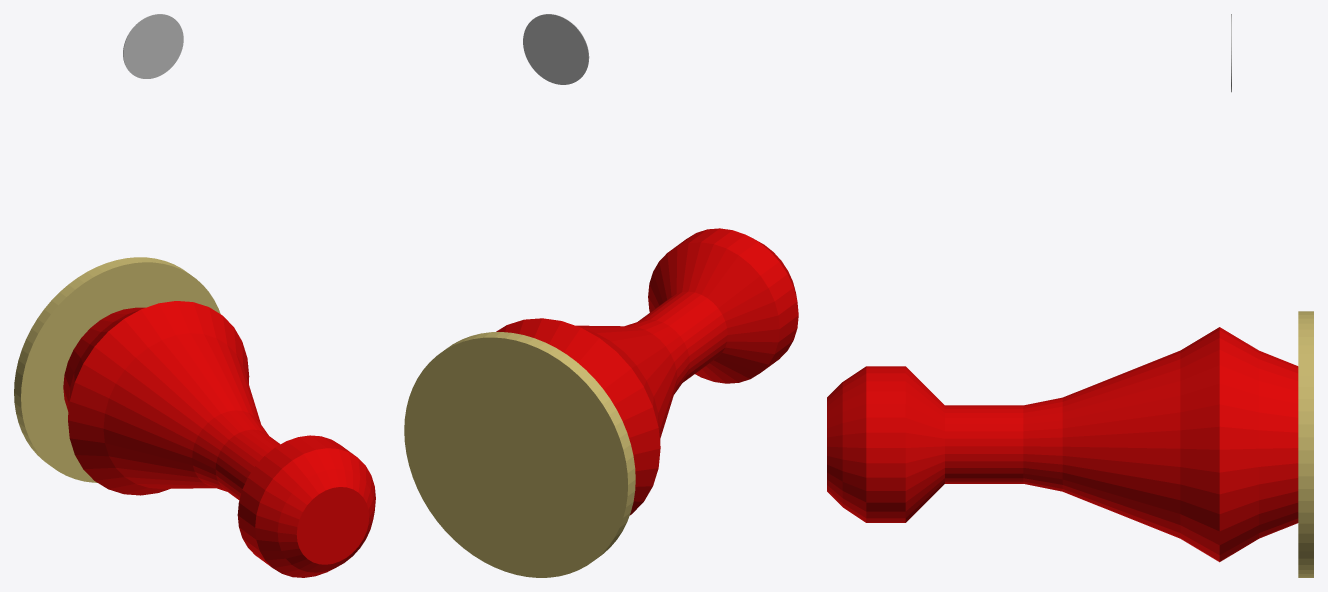
Rendered from red_pawn_with_face.glb.
3 views of the same model, side by side, from view 1: azimuth 30°, elevation 25°; view 2: azimuth 150°, elevation 25°; view 3: azimuth 270°, elevation 25° (orthographic). The views are drawn at different scales.
Parts seen in each view (by area): view 1: world; view 2: world; view 3: world.
Part boxes in pixels (x1,y1,x2,y2): world: [14, 14, 375, 577]; world: [404, 14, 798, 577]; world: [827, 14, 1313, 577].
Bounding box in the file's own units: 0.34 × 0.77 × 0.62.
